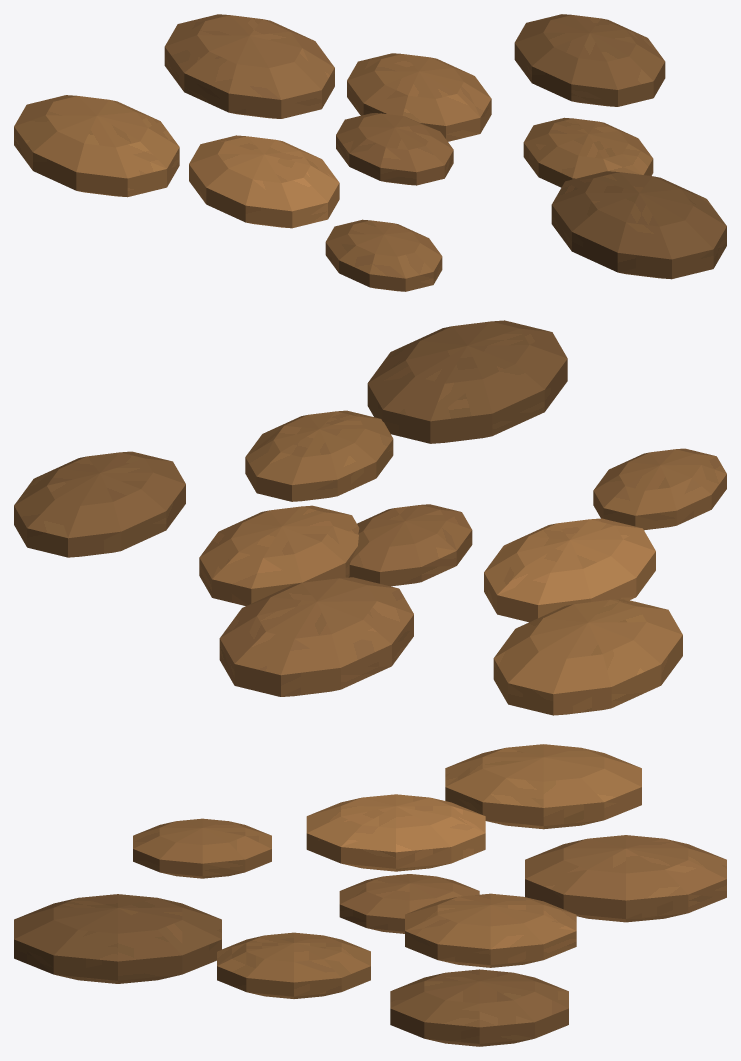
Rendered from seed_buckwheat.glb.
3 views of the same model, one above another, from view 1: azimuth 30°, elevation 25°; view 2: azimuth 150°, elevation 25°; view 3: azimuth 270°, elevation 25° (orthographic). The views are drawn at different scales.
Visible parts, largest first — view 1: block_grain 8, block_grain 4, block_grain 7, block_grain 6, block_grain 2, block_grain 1, block_grain 0, block_grain 5, block_grain 3; view 2: block_grain 8, block_grain 4, block_grain 7, block_grain 6, block_grain 2, block_grain 1, block_grain 3, block_grain 5, block_grain 0; view 3: block_grain 8, block_grain 4, block_grain 7, block_grain 2, block_grain 6, block_grain 1, block_grain 3, block_grain 5, block_grain 0.
Boxes of the visible parts, x1,y1,x2,y2 form: block_grain 8: [551, 171, 726, 279]; block_grain 4: [164, 14, 334, 118]; block_grain 7: [14, 95, 179, 197]; block_grain 6: [514, 14, 665, 106]; block_grain 2: [189, 135, 339, 228]; block_grain 1: [347, 53, 491, 141]; block_grain 0: [336, 113, 453, 185]; block_grain 5: [325, 219, 442, 291]; block_grain 3: [523, 117, 653, 187]; block_grain 8: [367, 320, 567, 443]; block_grain 4: [219, 577, 413, 696]; block_grain 7: [493, 598, 682, 715]; block_grain 6: [14, 451, 185, 557]; block_grain 2: [484, 518, 655, 622]; block_grain 1: [199, 505, 359, 605]; block_grain 3: [245, 410, 393, 501]; block_grain 5: [593, 448, 726, 530]; block_grain 0: [348, 504, 472, 586]; block_grain 8: [14, 894, 221, 983]; block_grain 4: [525, 835, 726, 922]; block_grain 7: [445, 744, 641, 829]; block_grain 2: [306, 794, 485, 871]; block_grain 6: [390, 969, 568, 1046]; block_grain 1: [405, 893, 576, 967]; block_grain 3: [217, 932, 370, 998]; block_grain 5: [133, 818, 271, 878]; block_grain 0: [339, 874, 479, 933].
Size of the model in its own units: 0.1012 by 0.0106 by 0.1102.
1 material, 1 textured.
